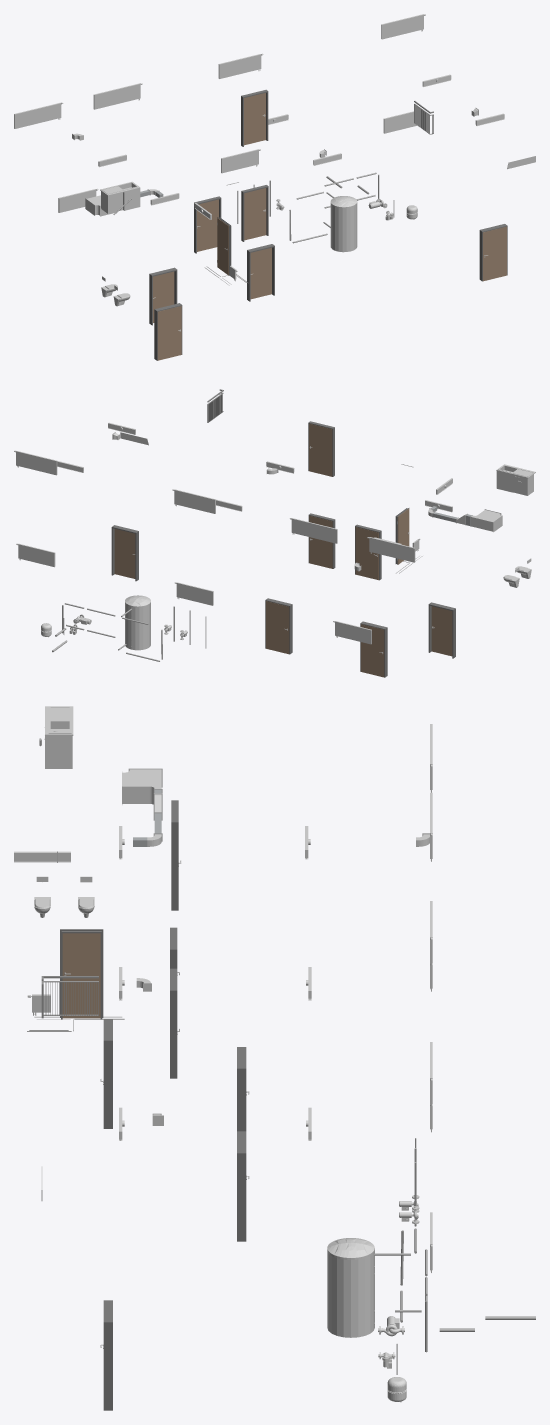
The picture shows the model from 3 angles, top to bottom: view 1: azimuth 30°, elevation 25°; view 2: azimuth 150°, elevation 25°; view 3: azimuth 270°, elevation 25°; orthographic projection. The views are drawn at different scales.
Size of the model in its own units: 18.39 by 9.22 by 10.97.
